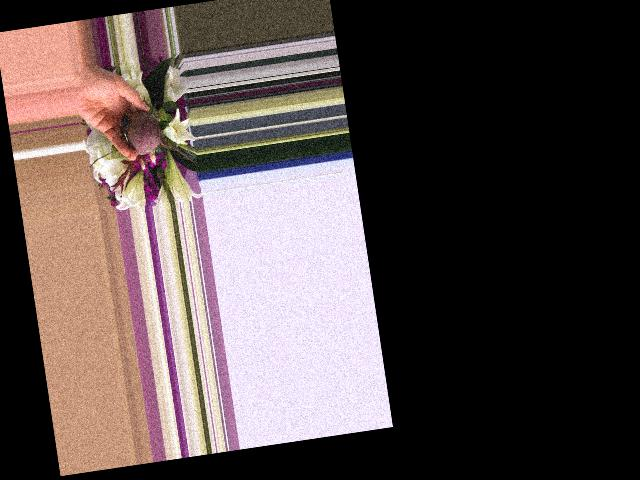beet: (118, 103, 195, 174)
